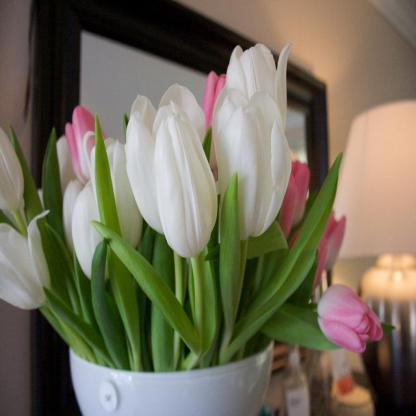vase: (69, 343, 275, 415)
